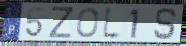1: (128, 7, 141, 39)
5: (25, 6, 46, 38)
L: (101, 5, 124, 42)
O: (75, 7, 100, 39)
S: (153, 7, 179, 41)
Z: (48, 5, 74, 39)
